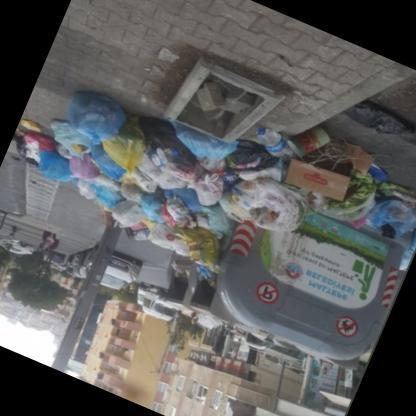Garbage: (34, 62, 240, 240), (232, 103, 334, 200), (209, 168, 316, 248), (122, 108, 223, 190), (304, 146, 387, 229), (62, 86, 144, 162), (347, 87, 415, 145), (362, 181, 415, 252), (181, 218, 237, 273), (186, 160, 237, 213), (28, 144, 84, 190), (64, 159, 123, 202), (103, 195, 148, 233), (136, 184, 175, 222), (119, 179, 154, 212), (194, 262, 212, 282), (171, 260, 190, 274)
